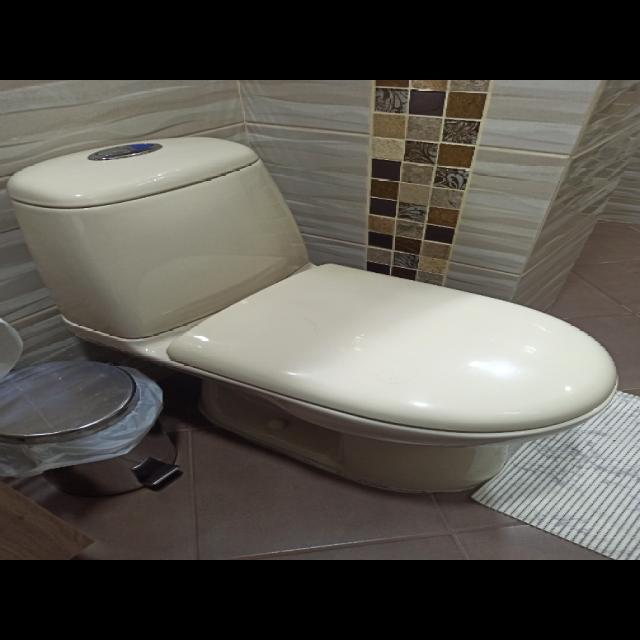toilet: (6, 125, 640, 505)
